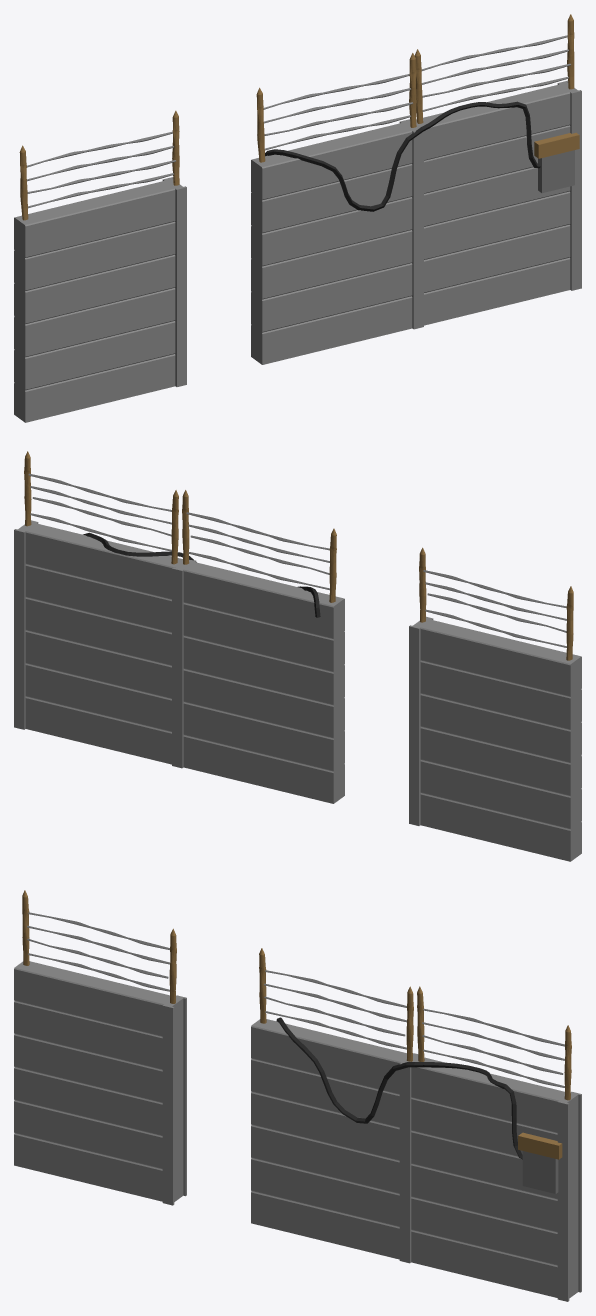
The model's file is fences_concrete.fbx.
3 views of the same model, one above another, from view 1: azimuth 30°, elevation 25°; view 2: azimuth 150°, elevation 25°; view 3: azimuth 330°, elevation 25° (orthographic).
Visible parts, largest first — view 1: cw_electrowire, cw1; view 2: cw_electrowire, cw1; view 3: cw_electrowire, cw1.
Part boxes in pixels (box(x1,y1,x2,y2)): cw_electrowire: box(251, 14, 581, 364); cw1: box(14, 110, 186, 422); cw_electrowire: box(14, 451, 344, 803); cw1: box(409, 547, 581, 861); cw_electrowire: box(251, 948, 581, 1301); cw1: box(14, 890, 186, 1205).
Size of the model in its own units: 703 by 328 by 44.65.
